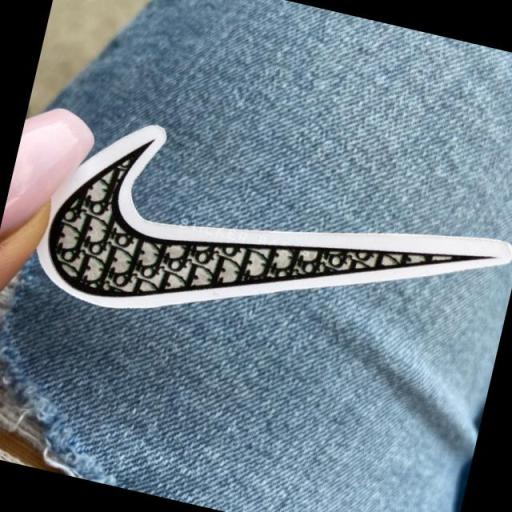Nike: (42, 145, 500, 382)
